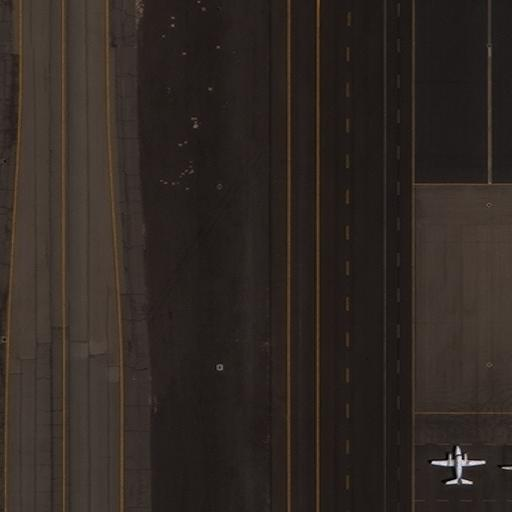Small Civil Transport: (431, 445, 485, 486)
